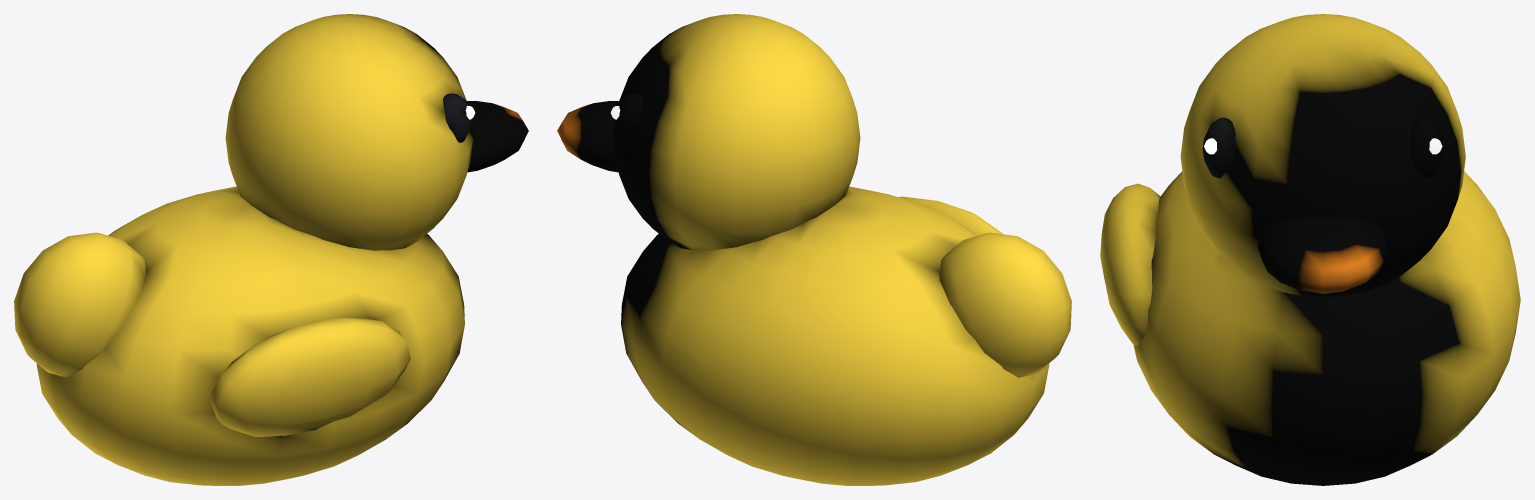
File: junk_duck.glb
3 renders of one model, left to right at view 1: azimuth 30°, elevation 25°; view 2: azimuth 150°, elevation 25°; view 3: azimuth 270°, elevation 25°, orthographic. The views are drawn at different scales.
Parts seen in each view (by area): view 1: duck_mesh; view 2: duck_mesh; view 3: duck_mesh.
Part boxes in pixels (x1,y1,x2,y2): duck_mesh: (14, 14, 528, 485); duck_mesh: (557, 14, 1071, 485); duck_mesh: (1100, 14, 1520, 485).
Size of the model in its own units: 0.6086 by 0.48 by 0.3832.
